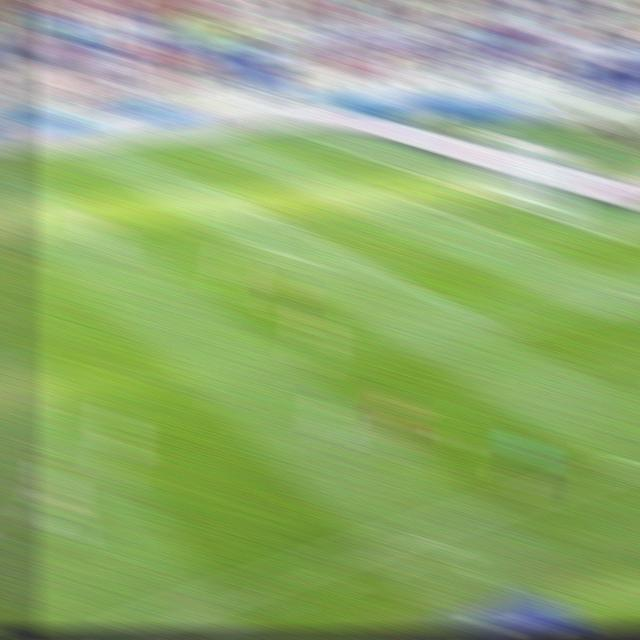bigarea_bottom_inner: (479, 315, 517, 343)
bigarea_top_inner: (178, 167, 215, 190)
bigarea_top_outter: (346, 145, 383, 168)
bottom_arc_area_intersection: (347, 252, 383, 276)
corner: (277, 121, 315, 142)
smallarea_bottom_inner: (514, 232, 551, 257)
smallarea_bottom_outter: (578, 219, 617, 245)
smallarea_top_inner: (366, 176, 405, 203)
smallarea_top_outter: (418, 168, 455, 191)
top_arc_area_intersection: (243, 199, 284, 227)
